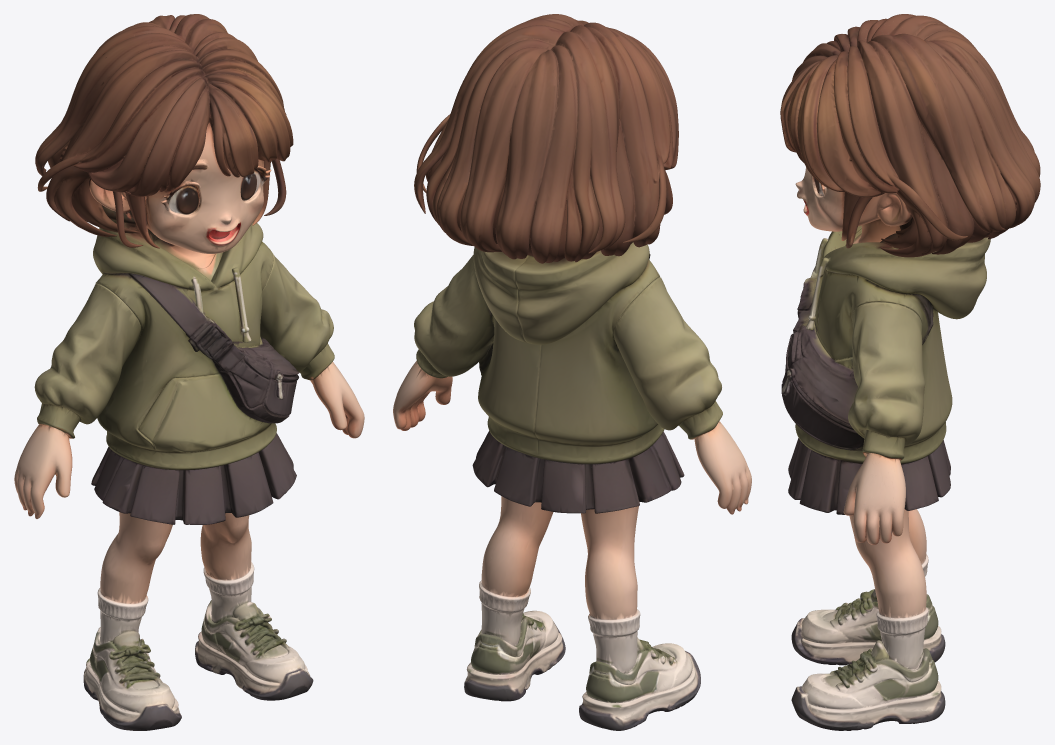
The model's file is avatar-green-hd.glb.
3 renders of one model, left to right at view 1: azimuth 30°, elevation 25°; view 2: azimuth 150°, elevation 25°; view 3: azimuth 270°, elevation 25°, orthographic. The views are drawn at different scales.
Parts seen in each view (by area): view 1: node_0; view 2: node_0; view 3: node_0.
Boxes of the visible parts, bbox=[...] form: node_0: bbox=[14, 14, 364, 730]; node_0: bbox=[393, 14, 751, 730]; node_0: bbox=[780, 14, 1040, 730].
Size of the model in its own units: 0.6044 by 1.13 by 0.4032.
Materials: 1 (1 with a texture image).
